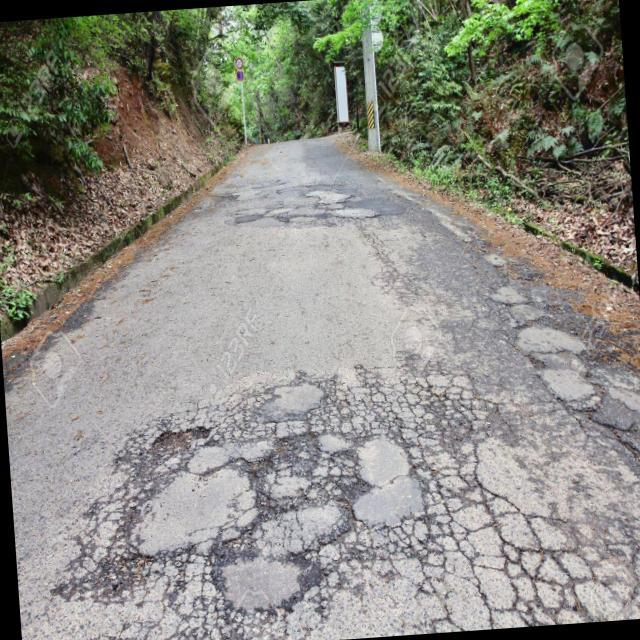Pothole: (94, 382, 222, 468), (205, 506, 281, 566), (222, 432, 306, 482), (120, 532, 183, 579), (290, 536, 343, 587), (334, 484, 380, 534)
